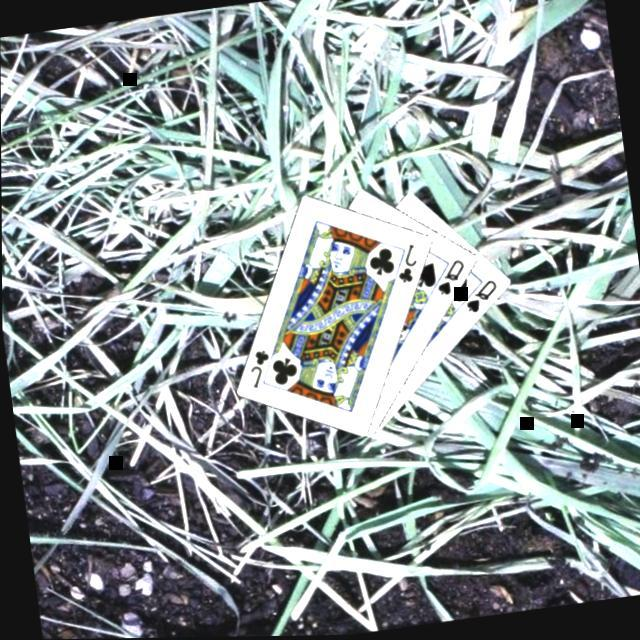JC: (391, 242, 423, 290), (244, 348, 276, 393)
QS: (432, 258, 471, 302), (462, 279, 504, 319)
